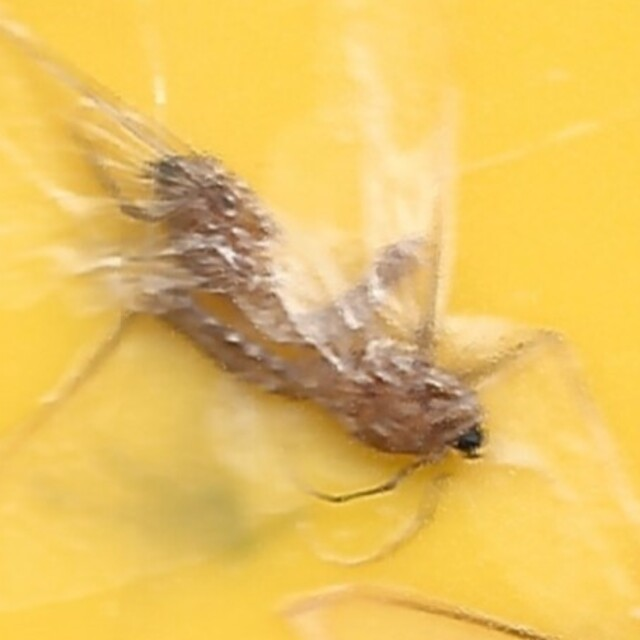Ephemeroptera: (140, 150, 500, 490)
